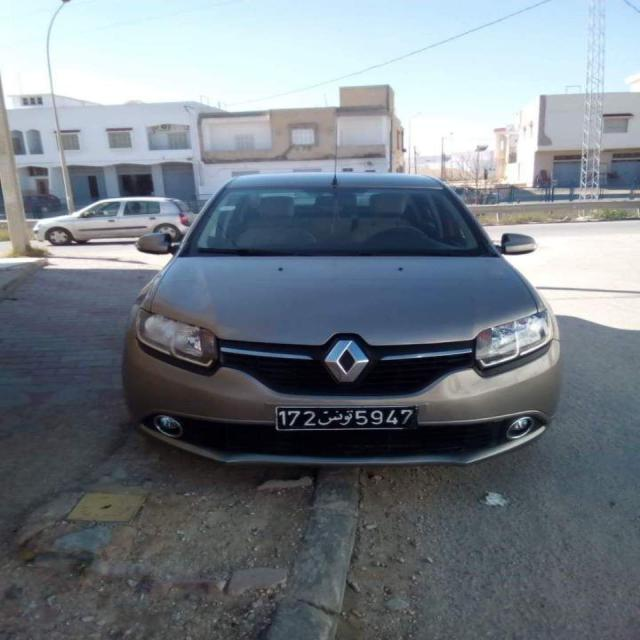LP: (278, 403, 420, 431)
